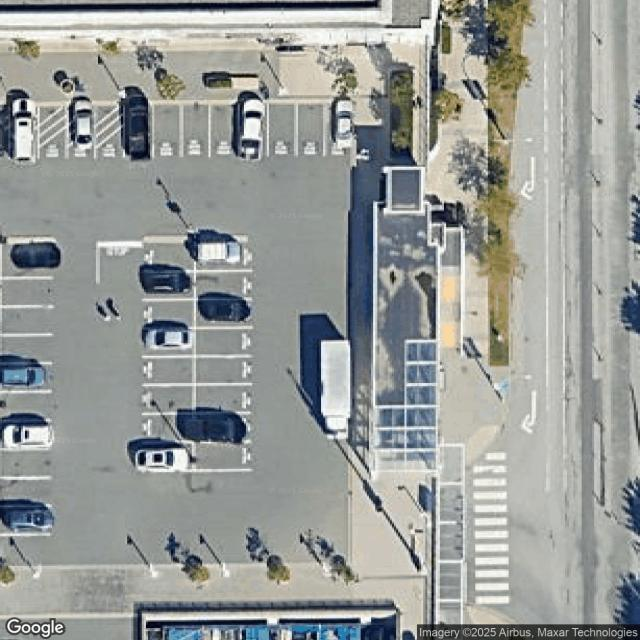car: (174, 413, 248, 444), (125, 95, 151, 159), (239, 95, 266, 156), (136, 445, 190, 475), (139, 267, 193, 294), (4, 502, 56, 530), (10, 243, 61, 269), (194, 239, 248, 263), (5, 426, 54, 452), (332, 96, 355, 151), (0, 362, 50, 387), (200, 296, 250, 320), (14, 98, 32, 160), (146, 327, 191, 348), (75, 100, 93, 150)
lot_boundary: (0, 92, 369, 575)
